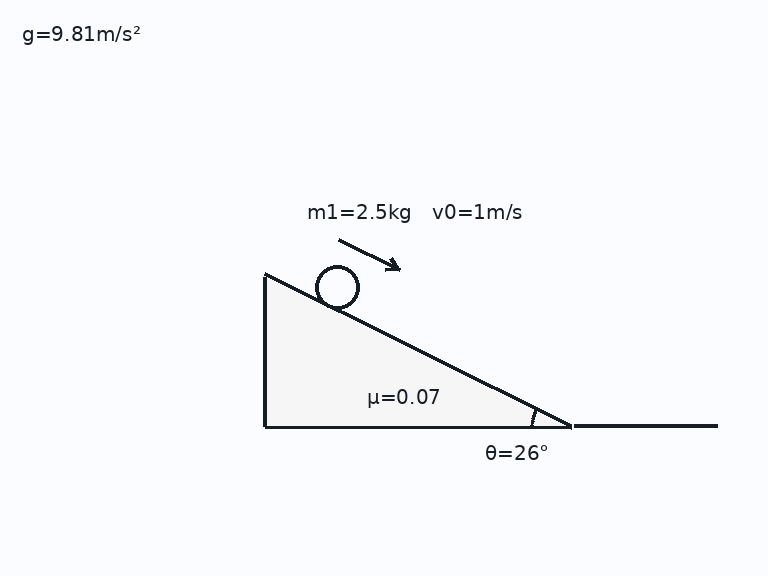ball: (313, 263, 361, 311)
ramp: (263, 274, 574, 428)
